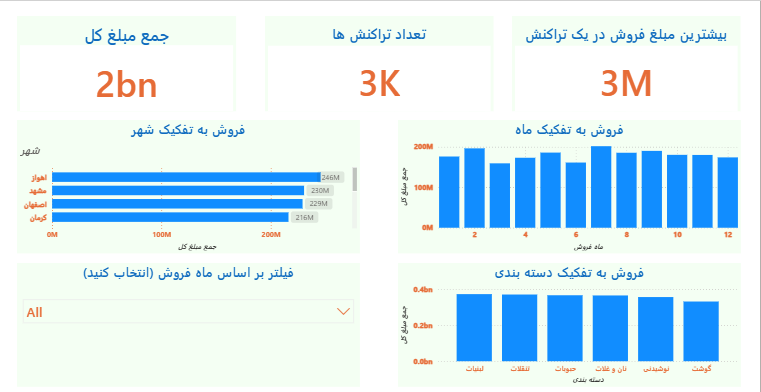

This screenshot's page, from the dashboard's own definition file:
{"tool":"powerbi","page":{"name":"Page 1","canvas":[1280,720],"ordinal":0},"visuals":[{"type":"cardVisual","title":"جمع مبلغ کل","fields":{"Data":["Sum(market.مبلغ کل (تومان))"]},"box":[32,80,368,160],"z":0},{"type":"cardVisual","title":"تعداد تراکنش ها","fields":{"Data":["CountNonNull(market.مبلغ کل (تومان))"]},"box":[448,80,384,160],"z":1000},{"type":"clusteredBarChart","title":"فروش به تفکیک شهر","fields":{"Y":["Sum(market.مبلغ کل (تومان))"],"Category":["market.شهر"]},"box":[32,256,576,224],"z":2000},{"type":"clusteredColumnChart","title":"فروش به تفکیک دسته بندی","fields":{"Category":["market.دستهبندی کالا"],"Y":["Sum(market.مبلغ کل (تومان))"]},"box":[672,496,576,208],"z":3000},{"type":"clusteredColumnChart","title":"فروش به تفکیک ماه","fields":{"Category":["market.ماه فروش"],"Y":["Sum(market.مبلغ کل (تومان))"]},"box":[672,256,576,224],"z":4000},{"type":"textbox","box":[64,0,288,12],"z":6000},{"type":"cardVisual","title":"بیشترین مبلغ فروش در یک تراکنش","fields":{"Data":["Max(market.مبلغ کل (تومان))"]},"box":[864,80,384,160],"z":6002},{"type":"slicer","title":"فیلتر بر اساس ماه فروش (انتخاب کنید)","fields":{"Values":["market.ماه فروش"]},"box":[32,496,576,208],"z":6003}]}

Visuals, with their boxes on the page's 1280x720 design canvas (x1, y1, x2, y2). These are canvas units, not pixel positions in the 761x392 screenshot, which may show the page scaled, cropped or inside an application window:
"جمع مبلغ کل" cardVisual: (left=32, top=80, right=400, bottom=240)
"تعداد تراکنش ها" cardVisual: (left=448, top=80, right=832, bottom=240)
"فروش به تفکیک شهر" clusteredBarChart: (left=32, top=256, right=608, bottom=480)
"فروش به تفکیک دسته بندی" clusteredColumnChart: (left=672, top=496, right=1248, bottom=704)
"فروش به تفکیک ماه" clusteredColumnChart: (left=672, top=256, right=1248, bottom=480)
textbox: (left=64, top=0, right=352, bottom=12)
"بیشترین مبلغ فروش در یک تراکنش" cardVisual: (left=864, top=80, right=1248, bottom=240)
"فیلتر بر اساس ماه فروش (انتخاب کنید)" slicer: (left=32, top=496, right=608, bottom=704)
